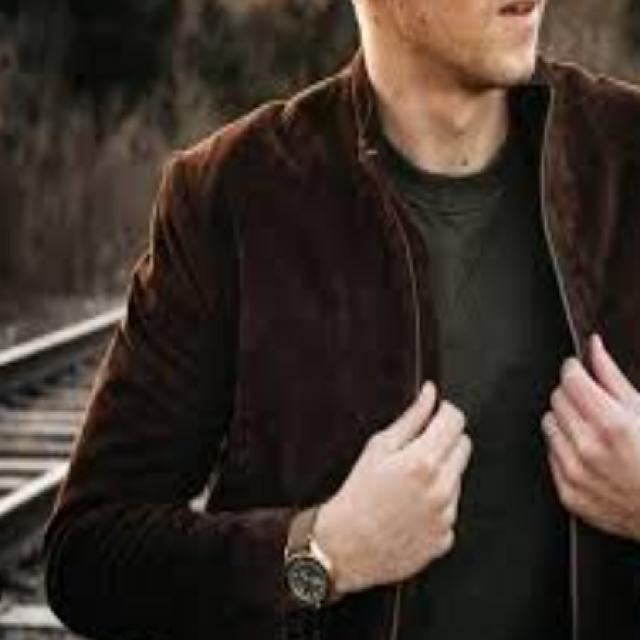Watch: (286, 502, 334, 620)
